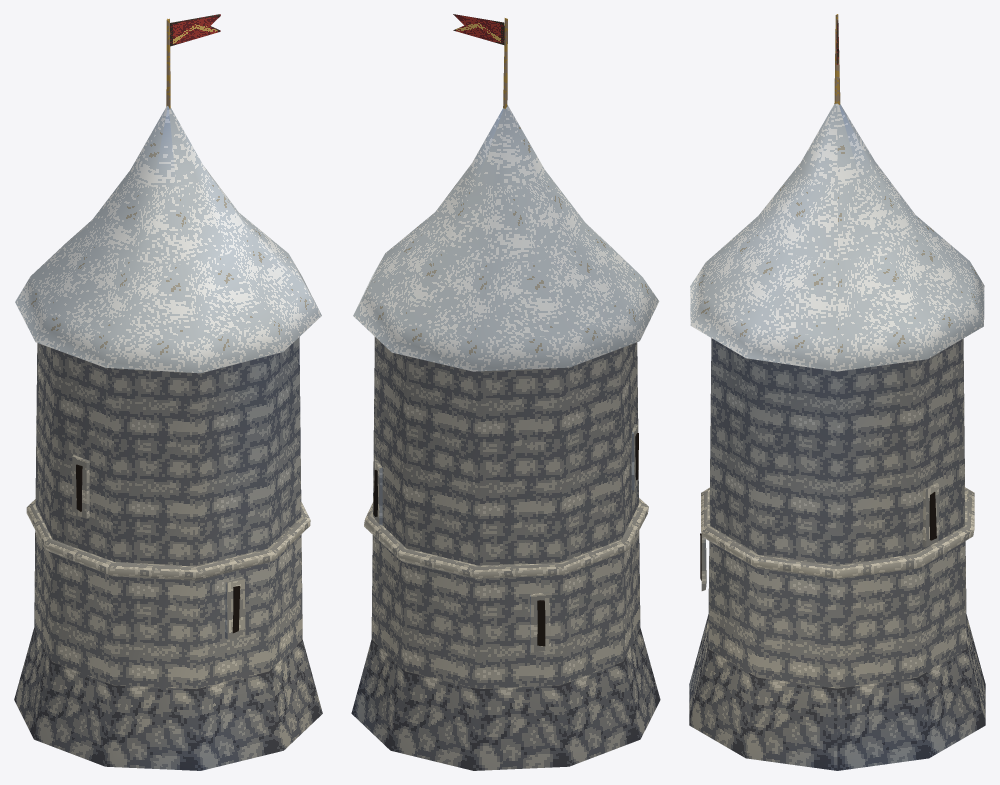
Rendered from cst.tower_round__roofed.glb.
3 renders of one model, left to right at view 1: azimuth 30°, elevation 25°; view 2: azimuth 150°, elevation 25°; view 3: azimuth 270°, elevation 25°, orthographic.
Parts seen in each view (by area): view 1: kit_drum, kit_top, kit_detail; view 2: kit_drum, kit_top, kit_detail; view 3: kit_drum, kit_top, kit_detail.
Boxes of the visible parts, left/top/right/bottom form: kit_drum: left=14, top=337, right=322, bottom=770; kit_top: left=15, top=106, right=321, bottom=373; kit_detail: left=26, top=14, right=310, bottom=639; kit_drum: left=351, top=337, right=660, bottom=770; kit_top: left=353, top=105, right=659, bottom=371; kit_detail: left=364, top=14, right=648, bottom=652; kit_drum: left=689, top=338, right=985, bottom=770; kit_top: left=690, top=103, right=984, bottom=371; kit_detail: left=700, top=14, right=974, bottom=590.
Bounding box in the file's own units: 6.9 × 16.87 × 6.56.
7 materials, 7 textured.
